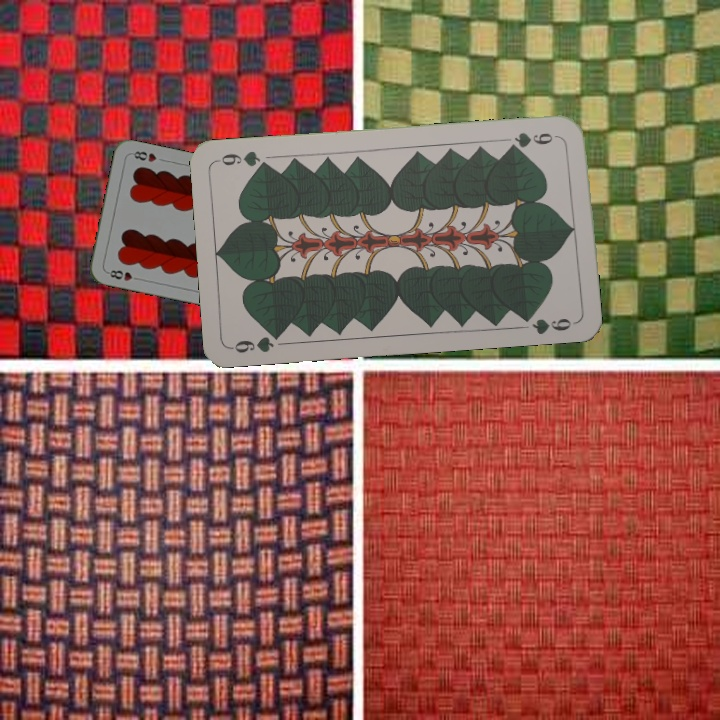G9: (228, 328, 286, 356), (504, 128, 563, 152)
H8: (103, 266, 143, 283)
